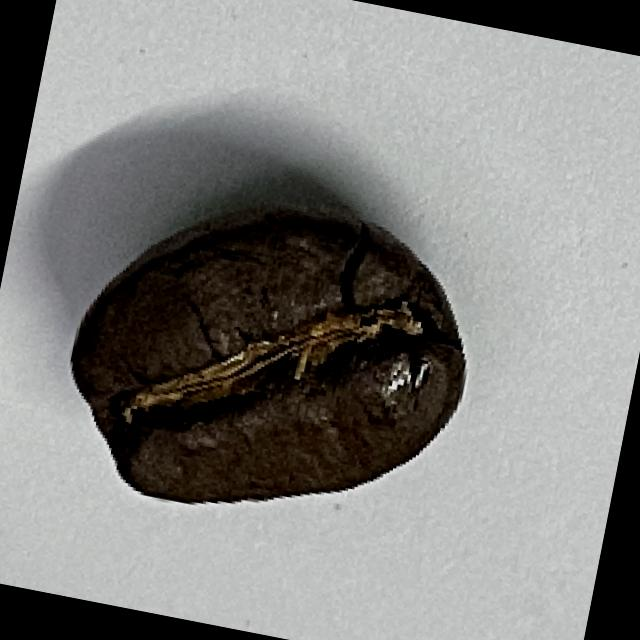bean: (44, 160, 497, 554)
